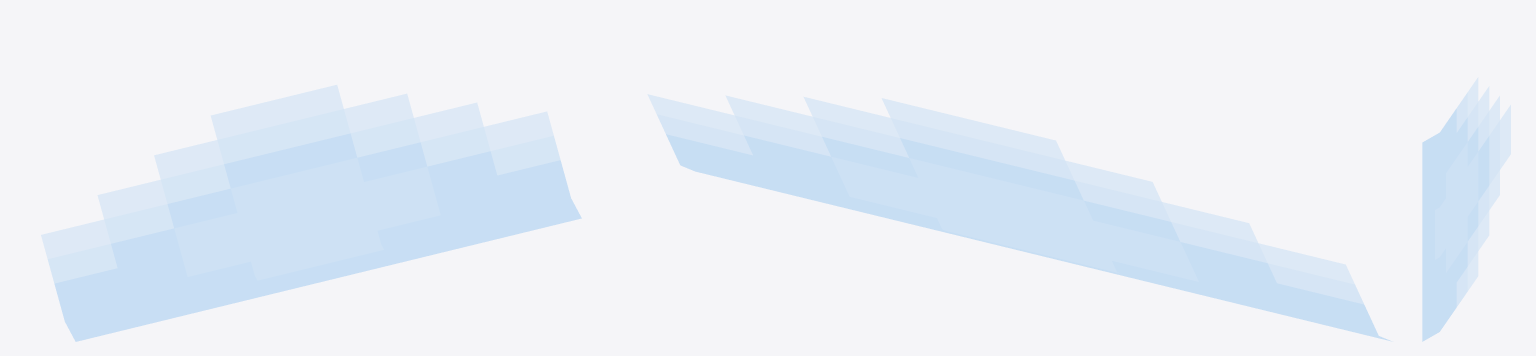
3 views of the same model, side by side, from view 1: azimuth 30°, elevation 25°; view 2: azimuth 150°, elevation 25°; view 3: azimuth 270°, elevation 25° (orthographic). The views are drawn at different scales.
Size of the model in its own units: 1 by 0.3007 by 0.2109.
1 material, 1 textured.
